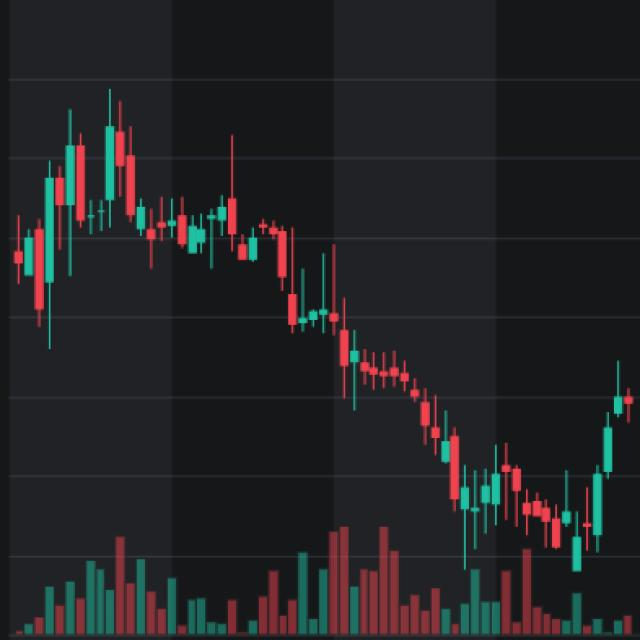Support-breakout: (141, 182, 471, 516)
